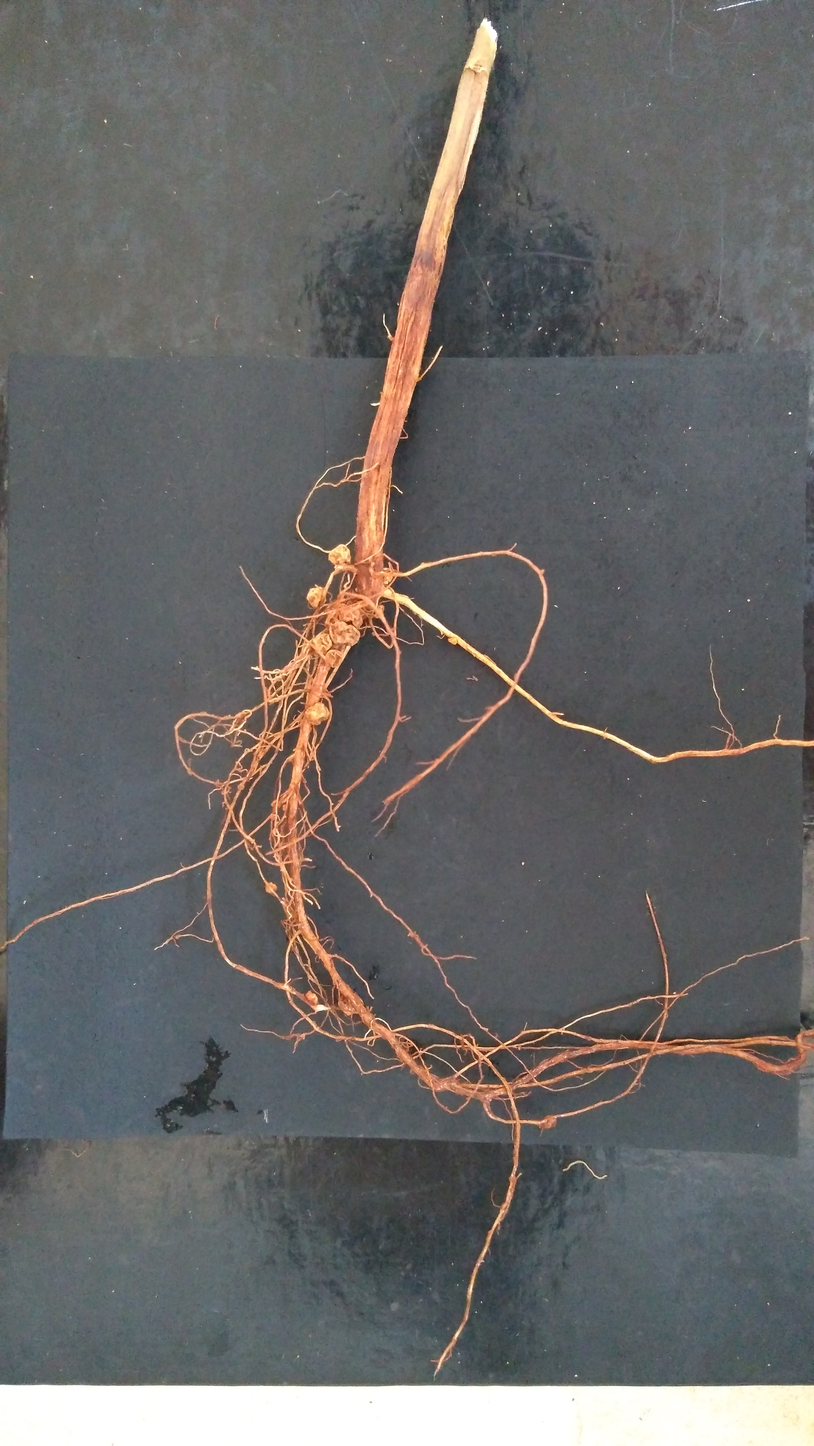nodule: (324, 603, 363, 647), (337, 991, 364, 1016), (303, 702, 330, 726), (328, 544, 351, 565), (311, 633, 332, 655), (306, 587, 326, 608), (325, 650, 344, 668), (539, 1114, 557, 1129), (305, 991, 318, 1005), (383, 568, 393, 585), (374, 604, 385, 619), (265, 882, 277, 894), (271, 799, 281, 808), (447, 637, 458, 645), (270, 813, 277, 820), (282, 803, 287, 811), (238, 784, 244, 790)
